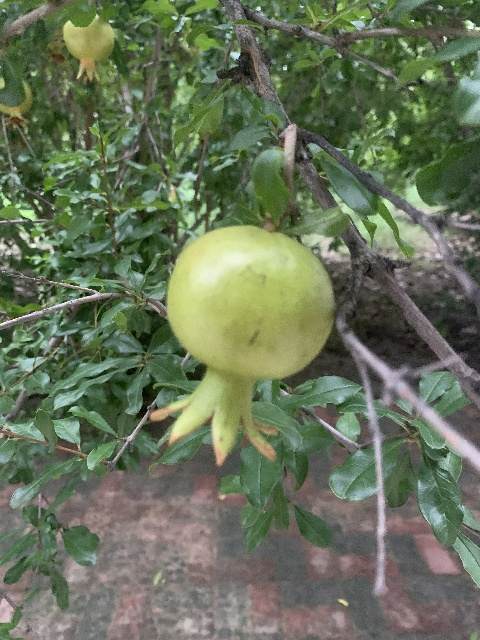mid-growth: (147, 224, 336, 465), (58, 14, 114, 83), (0, 78, 32, 128)
